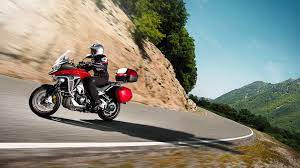moto: (29, 59, 140, 120)
person: (86, 42, 110, 88)
